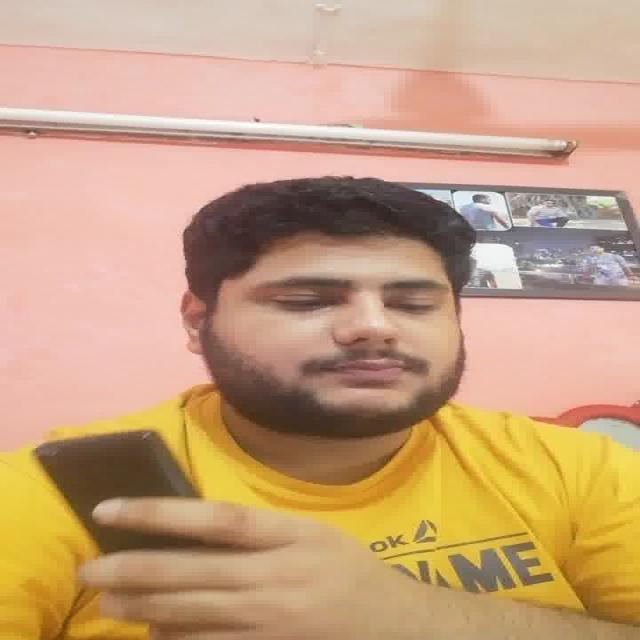Phone: (32, 426, 208, 546)
